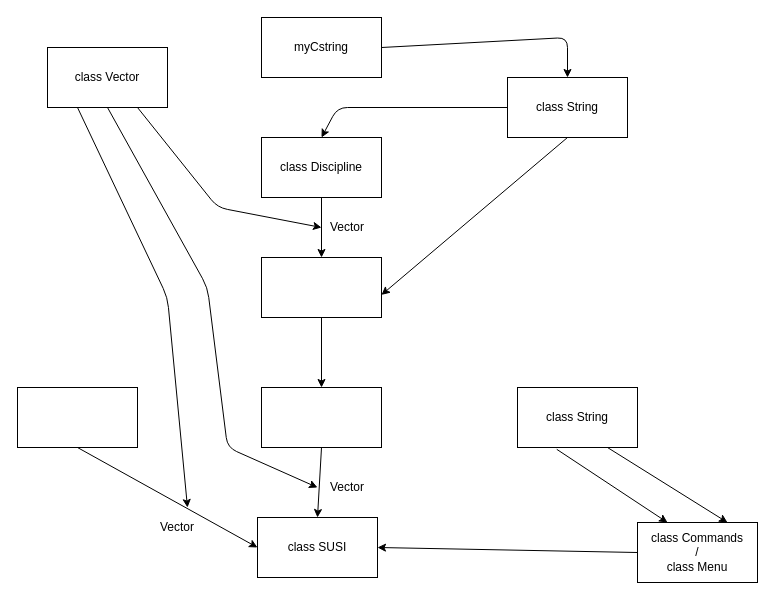
This 775x600 diagram has some shape labels left out. The box of each missing label's shape, as (x1, y1, x2, y2) in pixels:
class Specialiality: (16, 386, 138, 448)
class Speciality: (260, 256, 382, 318)
class Student: (260, 386, 382, 448)
